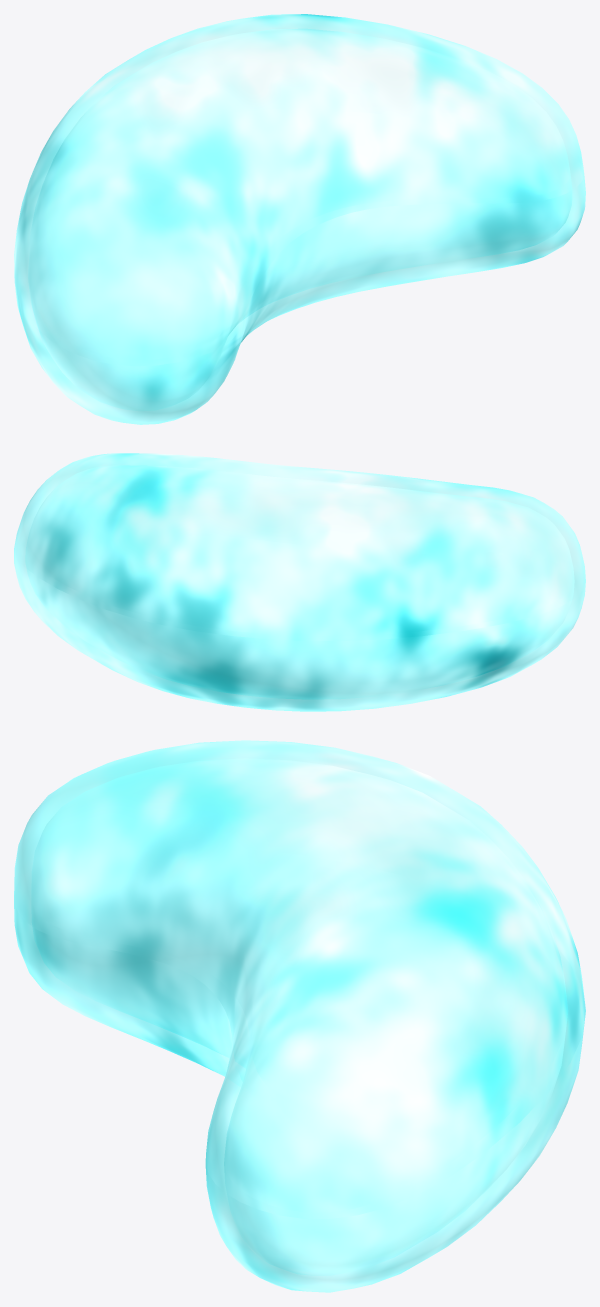
Rendered from vacuolo centrale.glb.
3 views of the same model, one above another, from view 1: azimuth 30°, elevation 25°; view 2: azimuth 150°, elevation 25°; view 3: azimuth 270°, elevation 25° (orthographic). The views are drawn at different scales.
Visible parts, largest first — view 1: Object_27; view 2: Object_27; view 3: Object_27.
Boxes of the visible parts, left/top/right/bottom form: Object_27: left=14, top=14, right=585, bottom=424; Object_27: left=14, top=453, right=585, bottom=711; Object_27: left=14, top=740, right=585, bottom=1292.
Bounding box in the file's own units: 3.49 × 1.49 × 2.32.
1 material, 1 textured.
